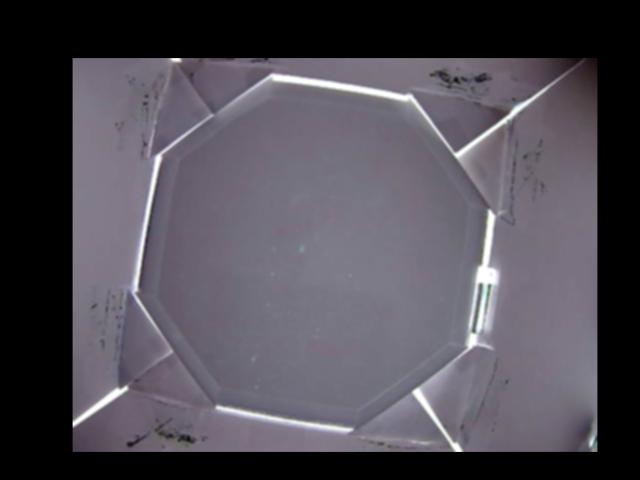Battery: (470, 267, 495, 334)
